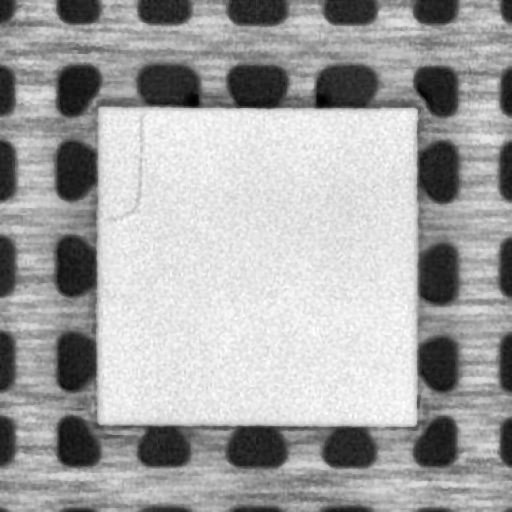DIE_CRACK: (111, 111, 152, 223)
